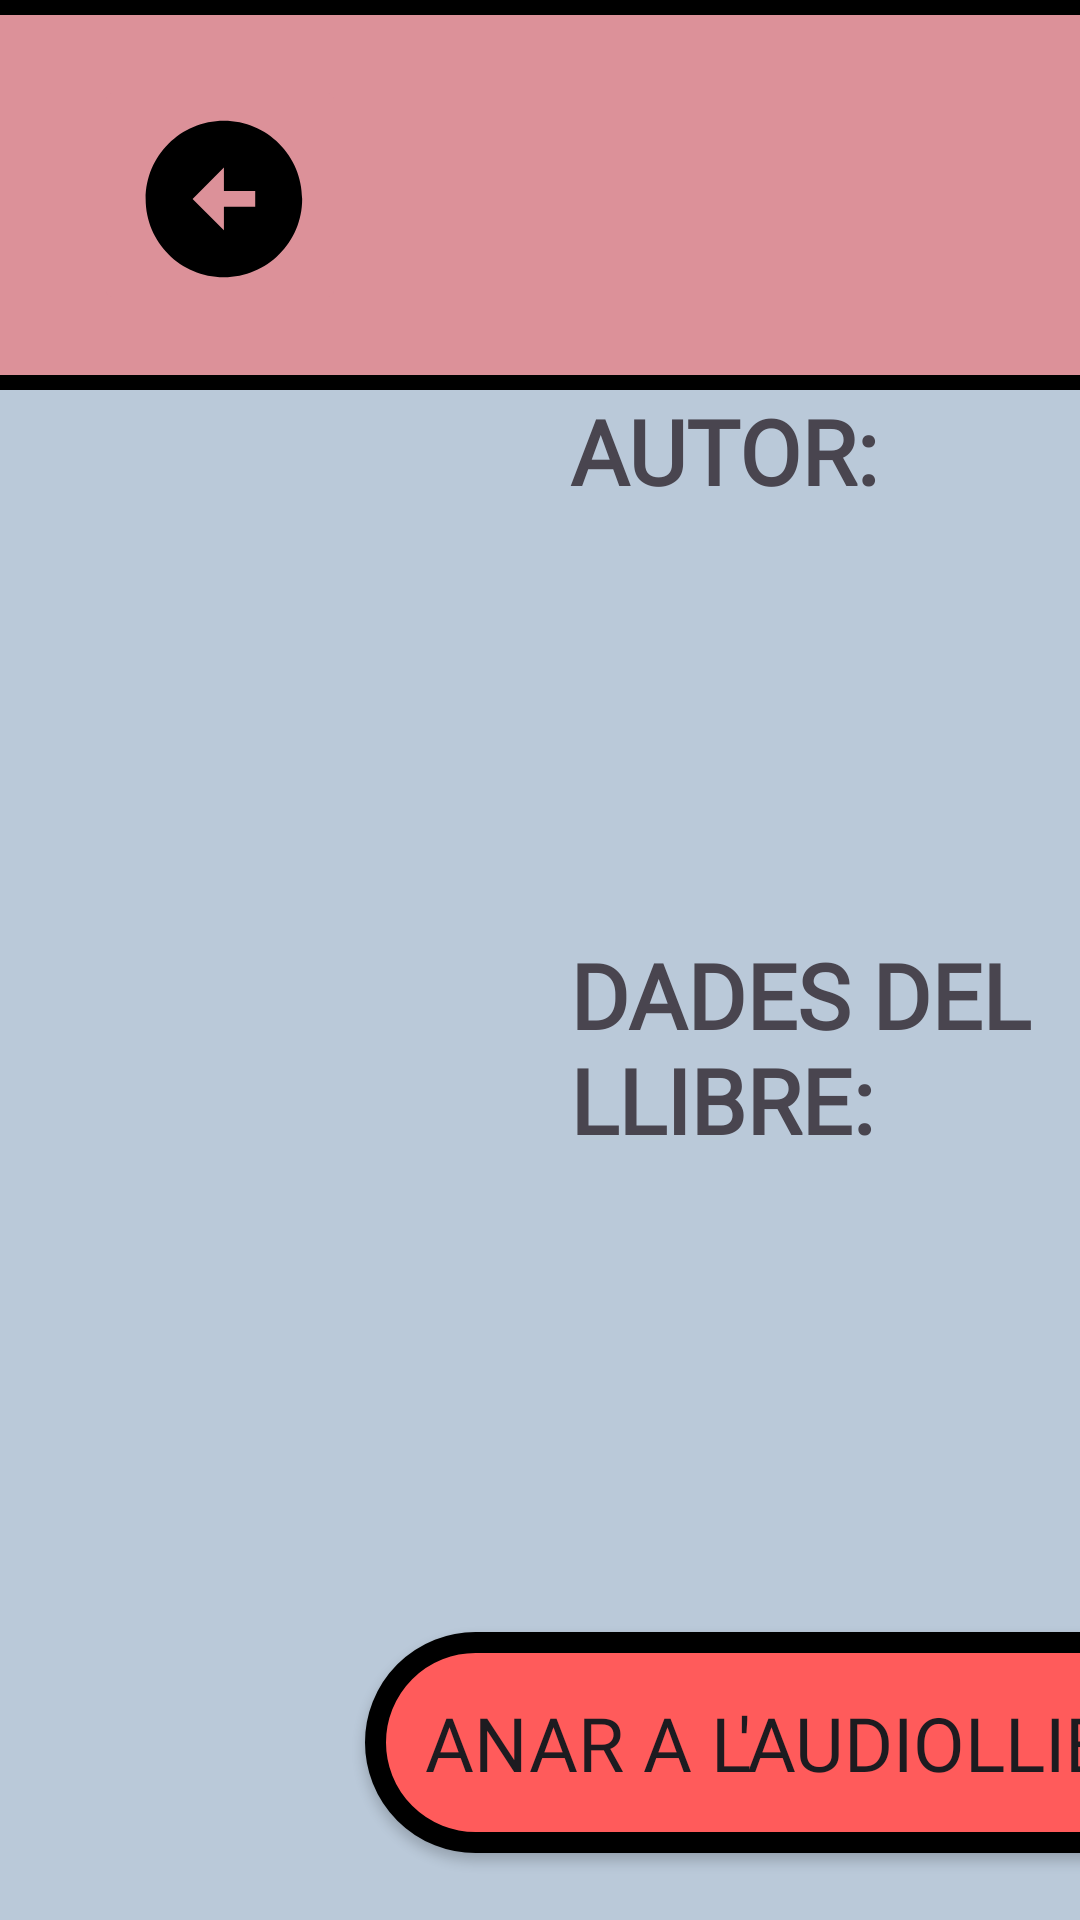

Icon bounding boxes for this 1080×1920 phone screenshot, format {"x1": x1, "y1": y1, "x2": x2, "y2": y2}:
arrow circle left: {"x1": 145, "y1": 120, "x2": 303, "y2": 278}
